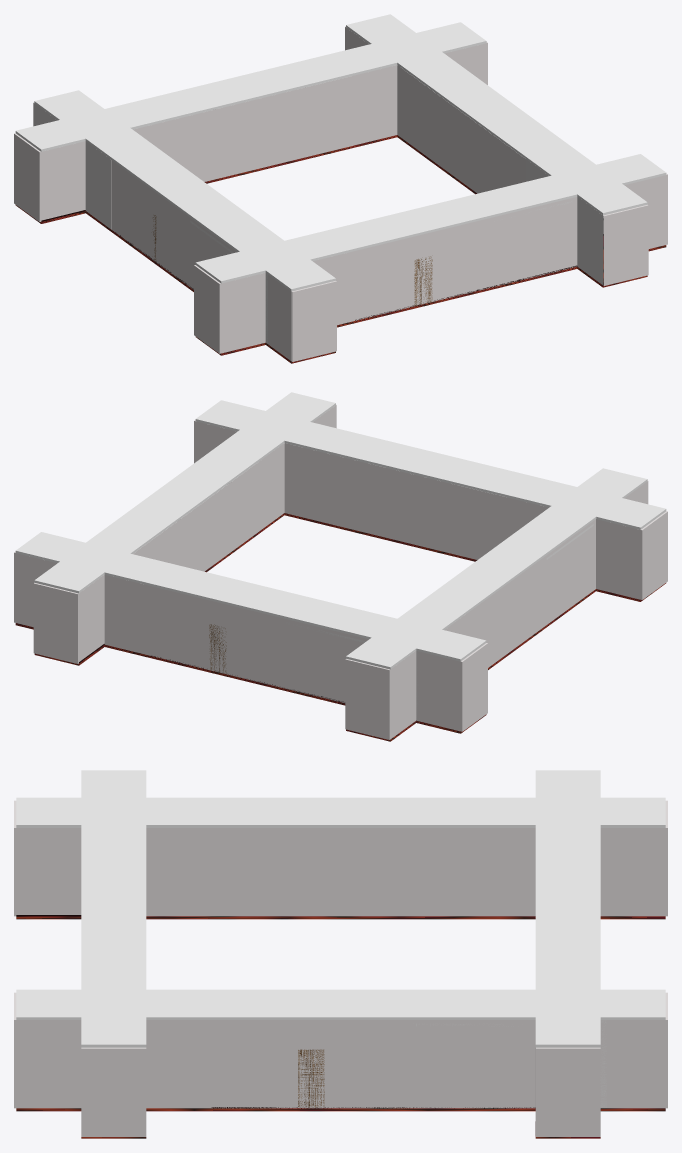
File: version 6.fbx
3 views of the same model, one above another, from view 1: azimuth 30°, elevation 25°; view 2: azimuth 150°, elevation 25°; view 3: azimuth 270°, elevation 25° (orthographic). The views are drawn at different scales.
Visible parts, largest first — view 1: 物件_9, 物件_158, 物件_32, 物件_106, 物件_57, 物件_3, 物件_8, 物件_58, 物件_90, 物件_39, 物件_1, 物件_35 (+8 smaller); view 2: 物件_9, 物件_148, 物件_42, 物件_57, 物件_106, 物件_103, 物件_7, 物件_98, 物件_50, 物件_38, 物件_1, 物件_6 (+7 smaller); view 3: 物件_9, 物件_66, 物件_96, 物件_151, 物件_49, 物件_156, 物件_157, 物件_100, 物件_2, 物件_48, 物件_60, 物件_1 (+1 smaller).
Part boxes in pixels (left/top/right/bottom): 物件_9: left=15, top=14, right=666, bottom=291; 物件_158: left=355, top=197, right=577, bottom=320; 物件_32: left=133, top=76, right=352, bottom=181; 物件_106: left=397, top=65, right=525, bottom=193; 物件_57: left=111, top=160, right=237, bottom=289; 物件_3: left=603, top=204, right=648, bottom=285; 物件_8: left=291, top=281, right=336, bottom=361; 物件_58: left=221, top=273, right=265, bottom=353; 物件_90: left=353, top=65, right=397, bottom=145; 物件_39: left=41, top=141, right=85, bottom=220; 物件_1: left=15, top=135, right=666, bottom=363; 物件_35: left=14, top=133, right=41, bottom=221; 物件_9: left=15, top=392, right=666, bottom=669; 物件_148: left=284, top=443, right=506, bottom=559; 物件_42: left=149, top=585, right=368, bottom=702; 物件_57: left=467, top=519, right=595, bottom=667; 物件_106: left=133, top=462, right=258, bottom=571; 物件_103: left=33, top=582, right=78, bottom=663; 物件_7: left=345, top=659, right=390, bottom=739; 物件_98: left=104, top=575, right=149, bottom=655; 物件_50: left=596, top=519, right=640, bottom=599; 物件_38: left=416, top=651, right=460, bottom=731; 物件_1: left=15, top=513, right=665, bottom=741; 物件_6: left=640, top=511, right=667, bottom=599; 物件_9: left=16, top=770, right=665, bottom=1047; 物件_66: left=146, top=828, right=470, bottom=916; 物件_96: left=211, top=1020, right=535, bottom=1108; 物件_151: left=81, top=1047, right=146, bottom=1136; 物件_49: left=600, top=828, right=665, bottom=916; 物件_156: left=146, top=1020, right=211, bottom=1108; 物件_157: left=16, top=1020, right=81, bottom=1108; 物件_100: left=600, top=1020, right=665, bottom=1108; 物件_2: left=536, top=1047, right=600, bottom=1136; 物件_48: left=471, top=828, right=535, bottom=916; 物件_60: left=16, top=828, right=81, bottom=914; 物件_1: left=16, top=916, right=665, bottom=1138.
Size of the model in its own units: 2014 by 320 by 2014.
5 materials, 2 textured.
